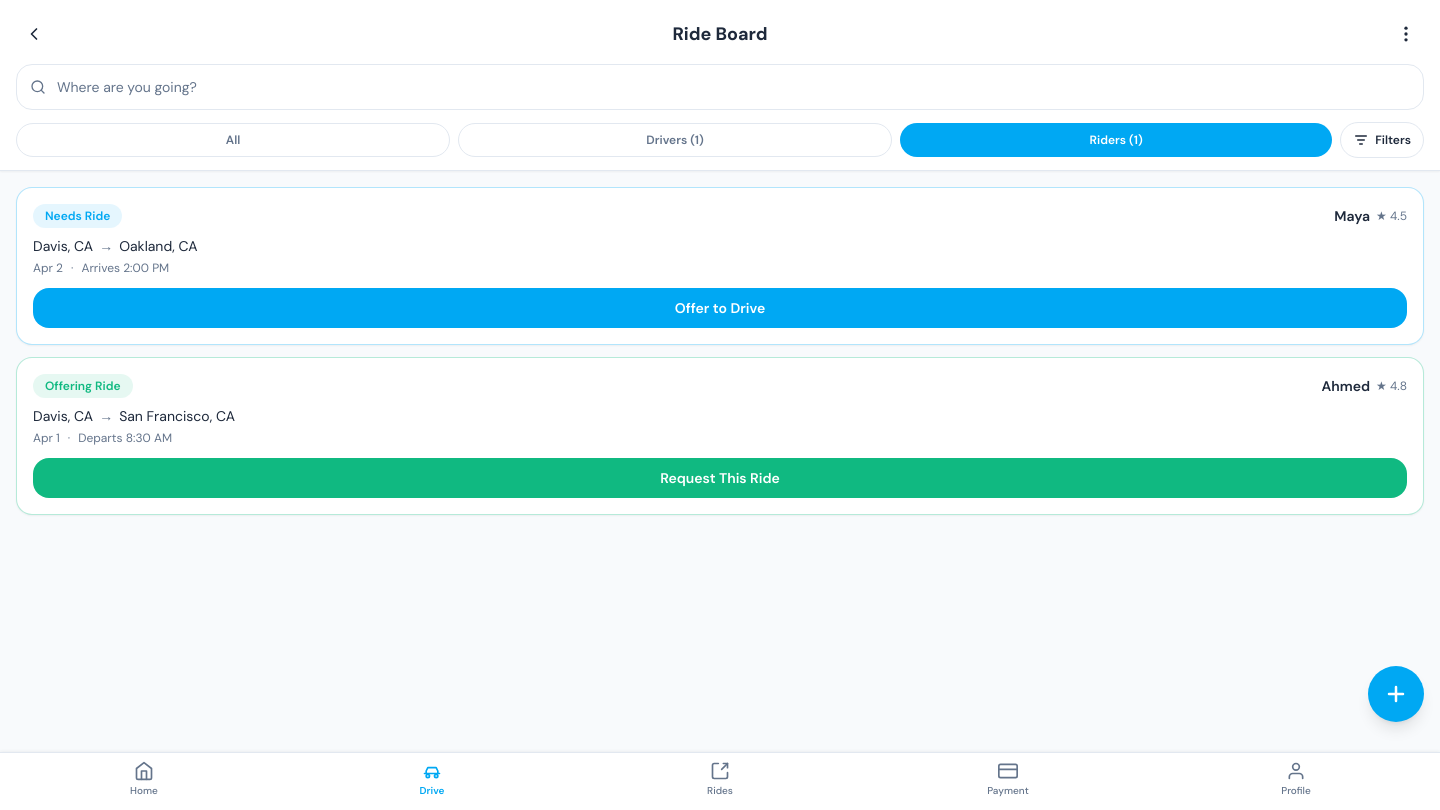
RideBoard › shows error when request fails
Open confirmation sheet
Click the button "Request This Ride".
click(720, 478)  # box [33,458,1407,498]
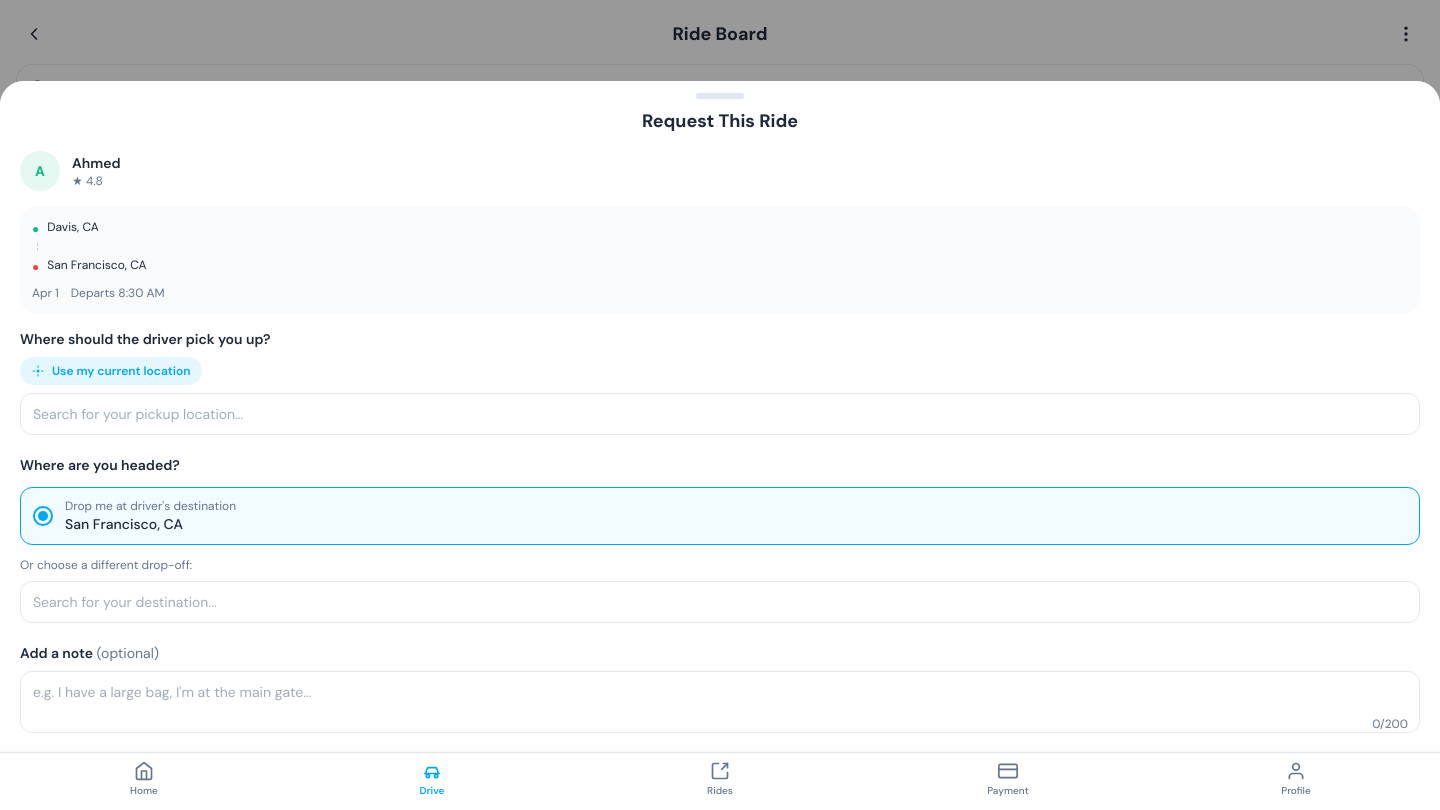
Fill in pickup
Type "Test" into the field with test id "pickup-search".
click(720, 414); type("Test")  # box [20,393,1420,435]
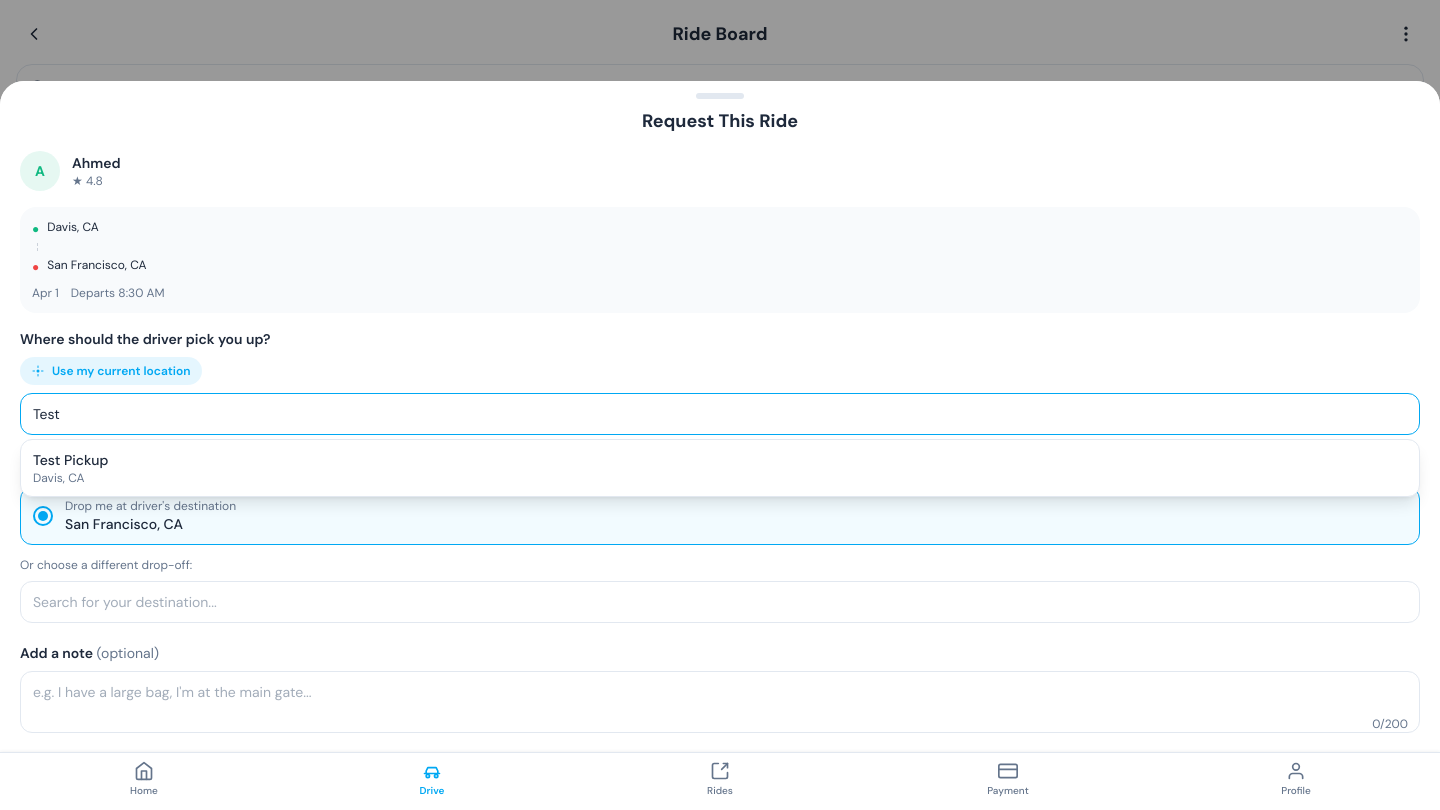
Expected: the button with test id "pickup-suggestion" is shown
Click the button with test id "pickup-suggestion".
click(71, 460)  # box [21,440,1419,496]
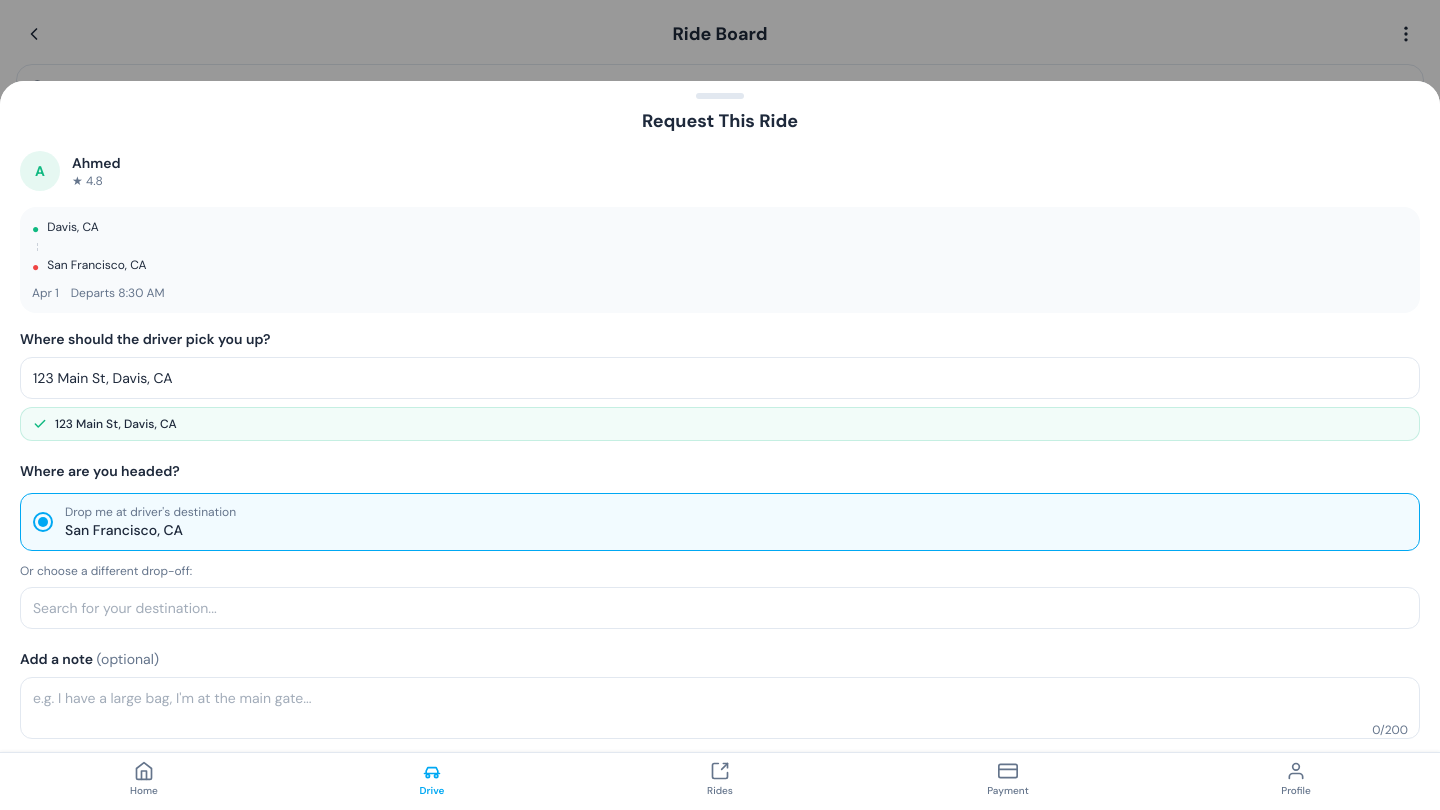
Fill in destination
Type "Test" into the field with test id "destination-search".
click(720, 608); type("Test")  # box [20,587,1420,629]
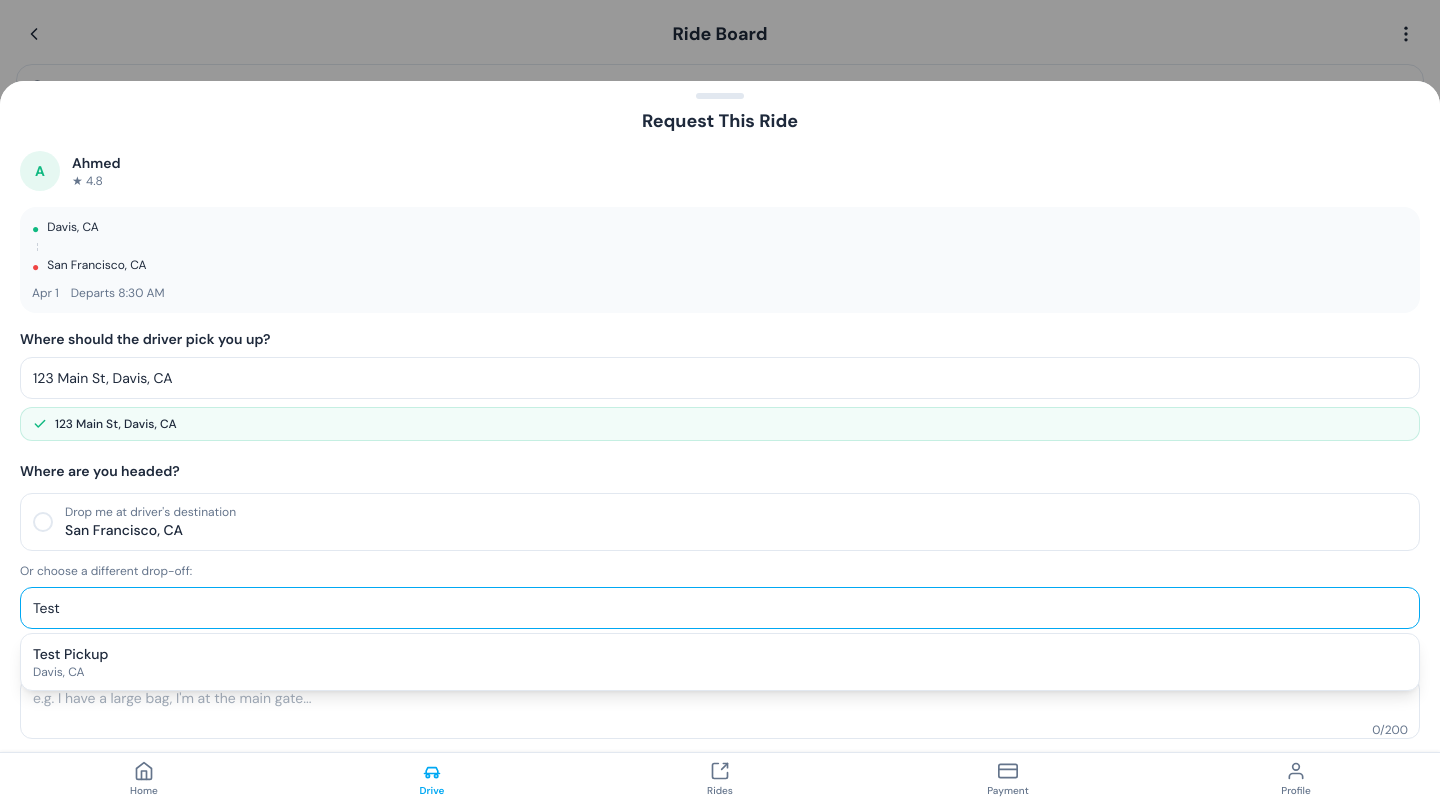
Expected: the button with test id "place-suggestion" is shown
Click the button with test id "place-suggestion".
click(71, 654)  # box [21,634,1419,690]
(page scrolled)
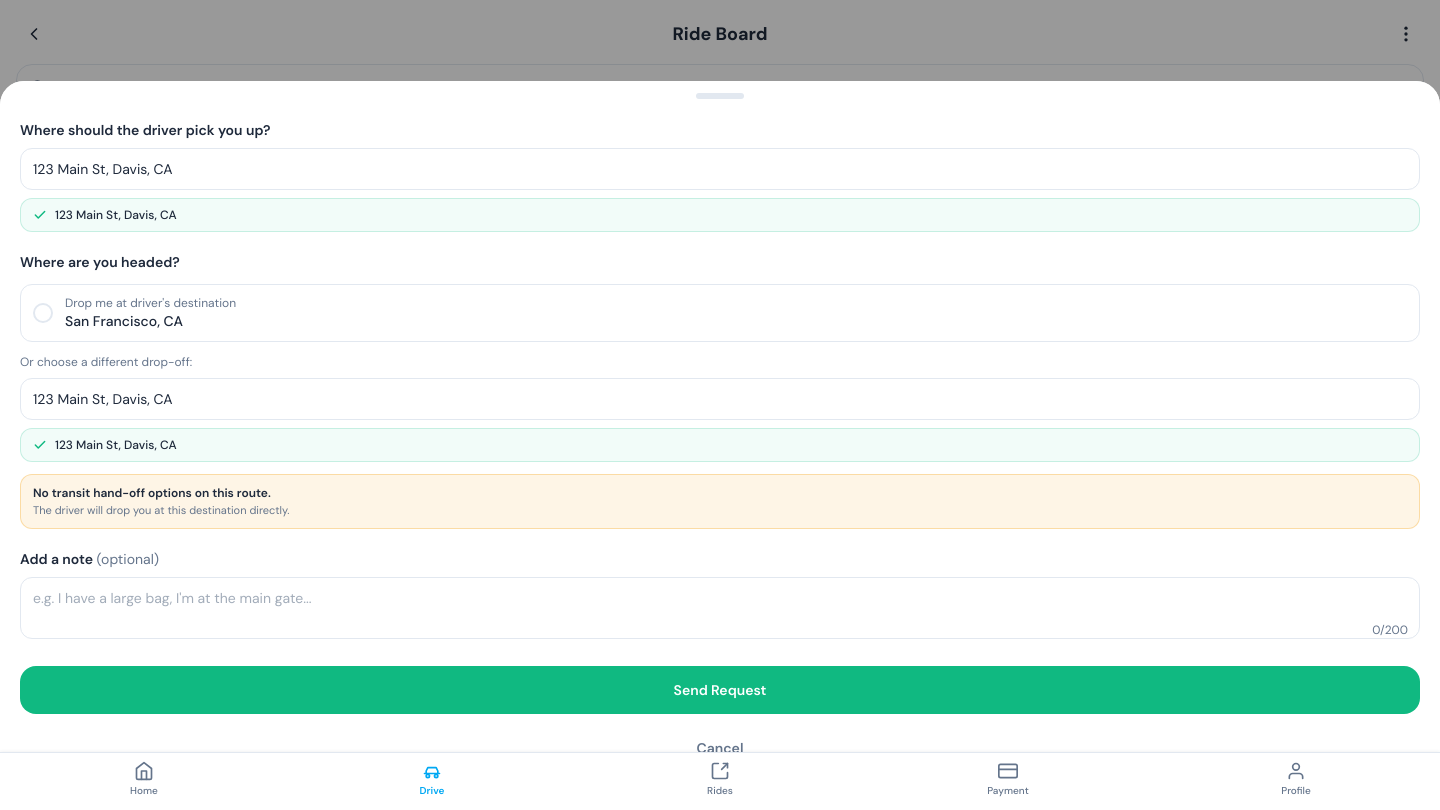
Click "Send Request"
Click the button with test id "confirm-send-button".
click(720, 690)  # box [20,666,1420,714]
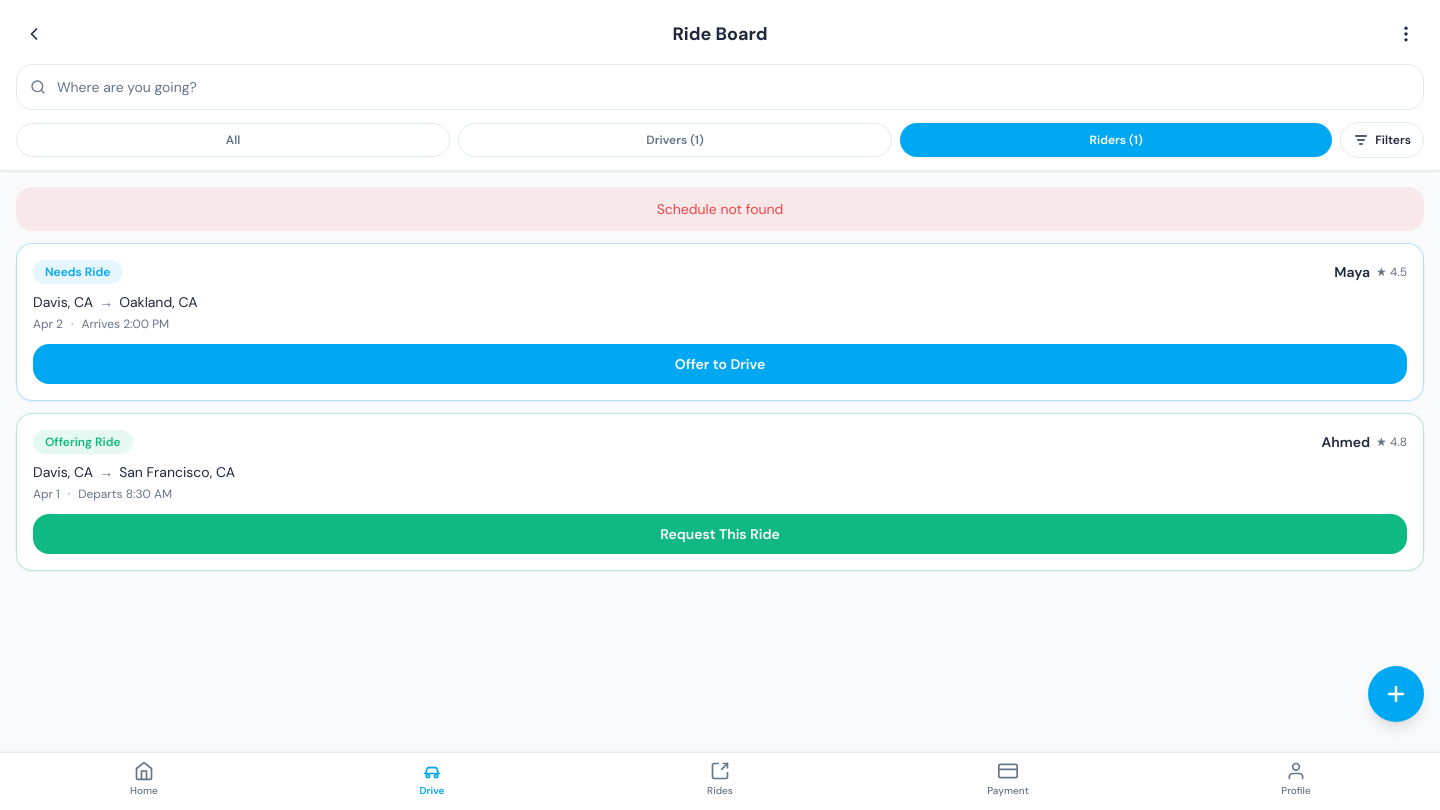
Expected: the text with test id "request-error" reads "Schedule not found", [657,200,783,218]
